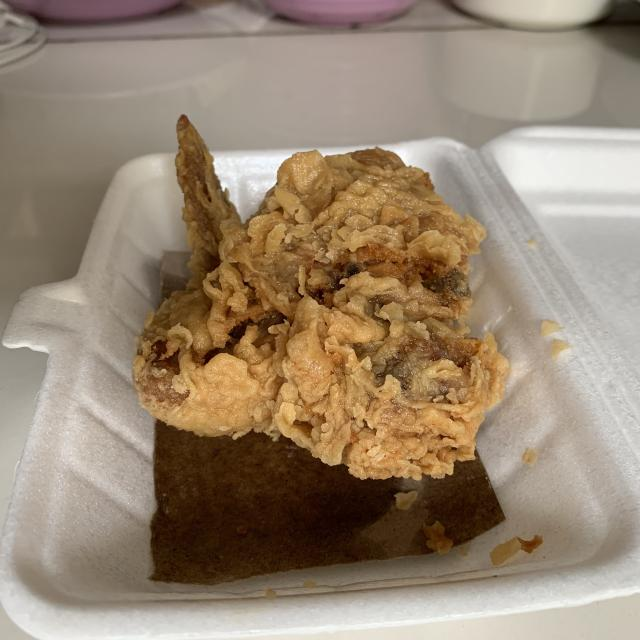Frango: (123, 111, 504, 476)
